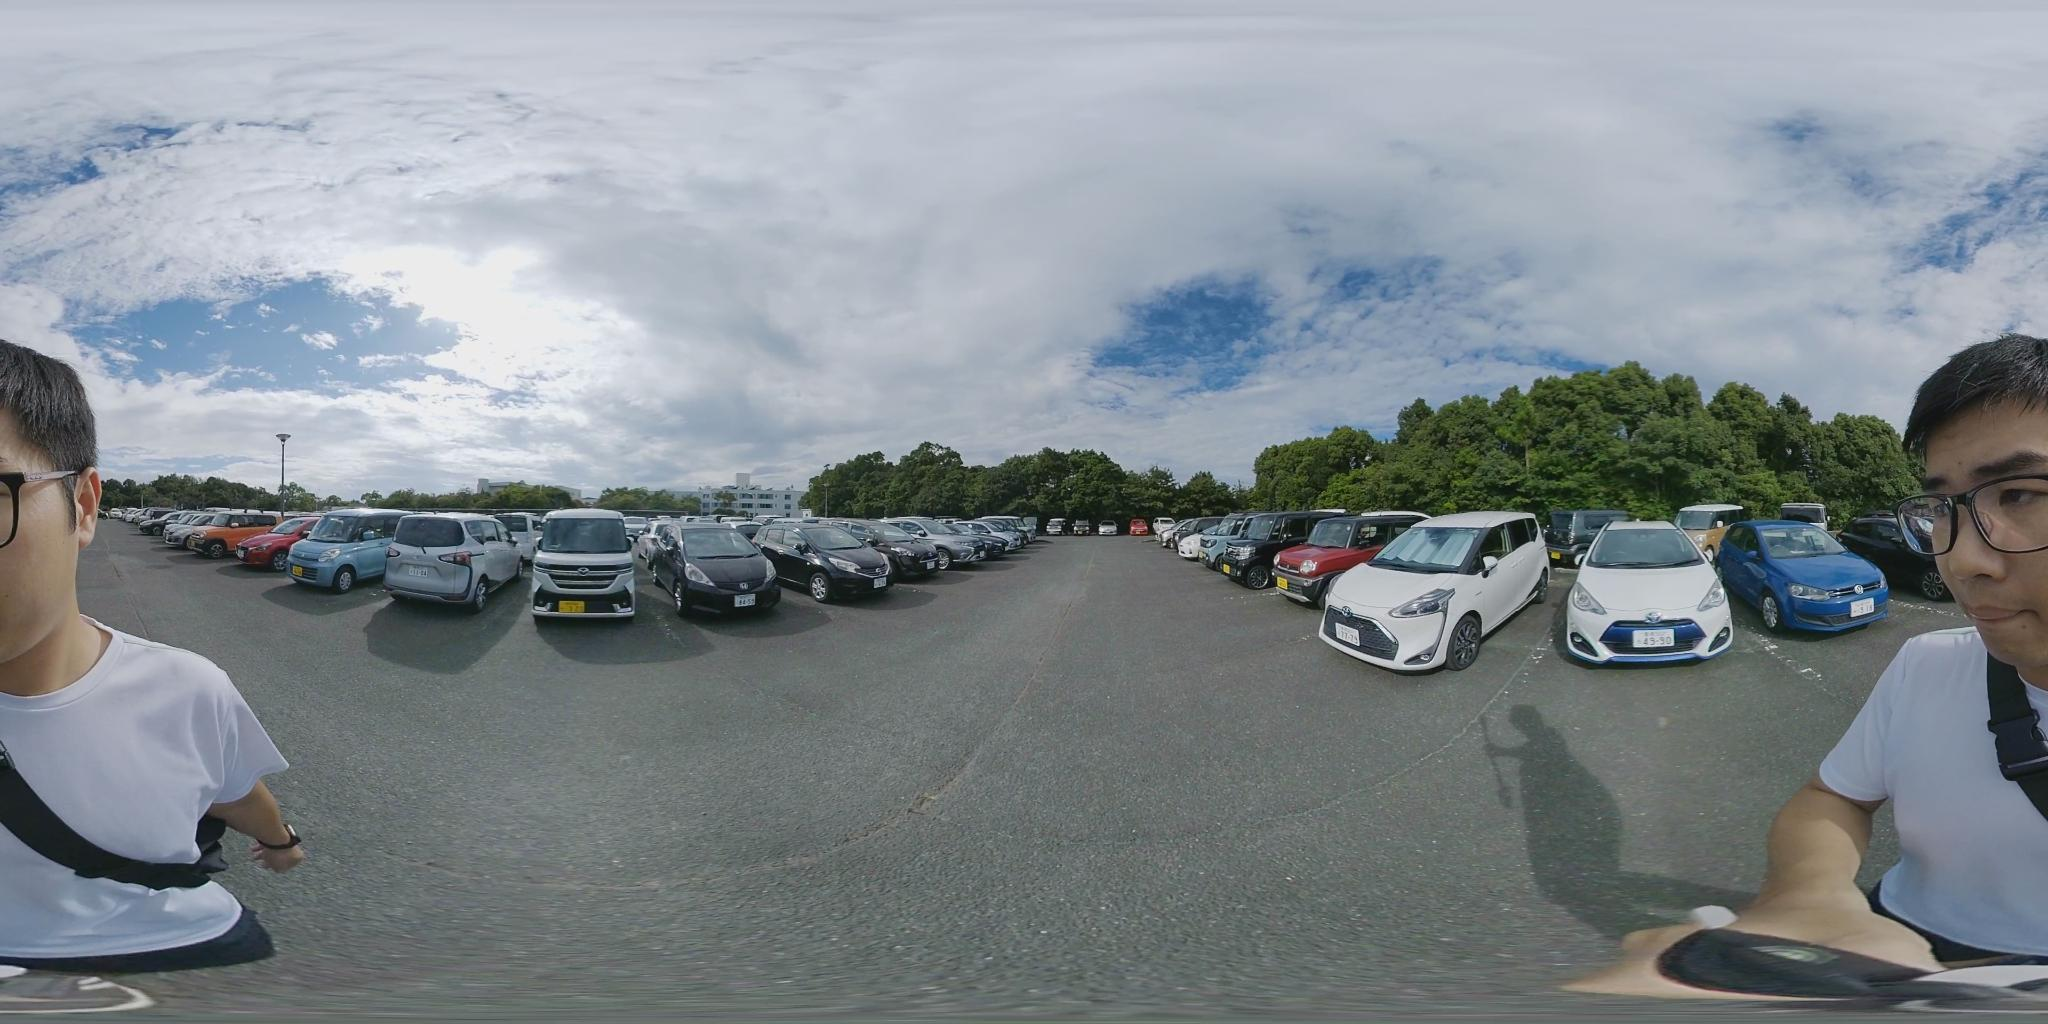car: (1320, 511, 1557, 673), (1711, 525, 1895, 637), (286, 511, 515, 593), (639, 521, 789, 622), (1267, 512, 1433, 602), (376, 513, 529, 607), (529, 508, 644, 618), (759, 524, 893, 602), (1832, 519, 1949, 596), (162, 508, 282, 554), (232, 515, 333, 568)
